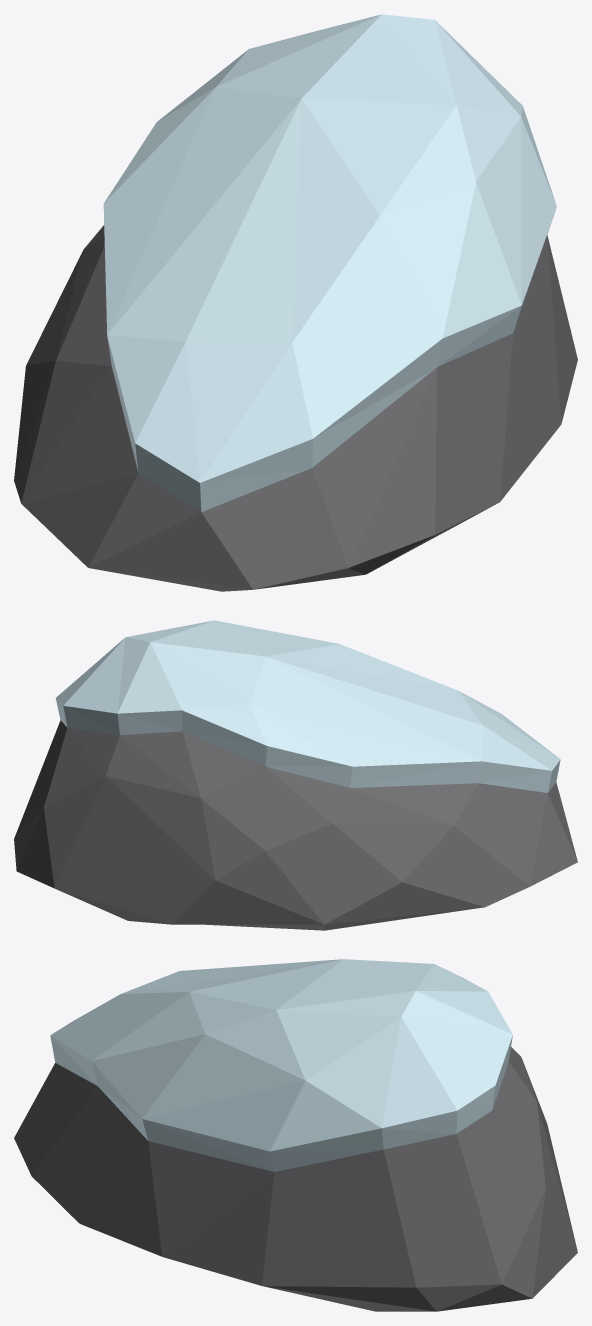
Rendered from SM_Env_Rock_03_Snow.fbx.
3 renders of one model, top to bottom at view 1: azimuth 30°, elevation 25°; view 2: azimuth 150°, elevation 25°; view 3: azimuth 270°, elevation 25°, orthographic. The views are drawn at different scales.
Parts seen in each view (by area): view 1: SM_Env_Rock_03_Snow; view 2: SM_Env_Rock_03_Snow; view 3: SM_Env_Rock_03_Snow.
Part boxes in pixels (<box>): SM_Env_Rock_03_Snow: <box>14,14,577,591</box>; SM_Env_Rock_03_Snow: <box>14,620,577,930</box>; SM_Env_Rock_03_Snow: <box>14,959,577,1311</box>.
Bounding box in the file's own units: 139 × 77.93 × 133.
